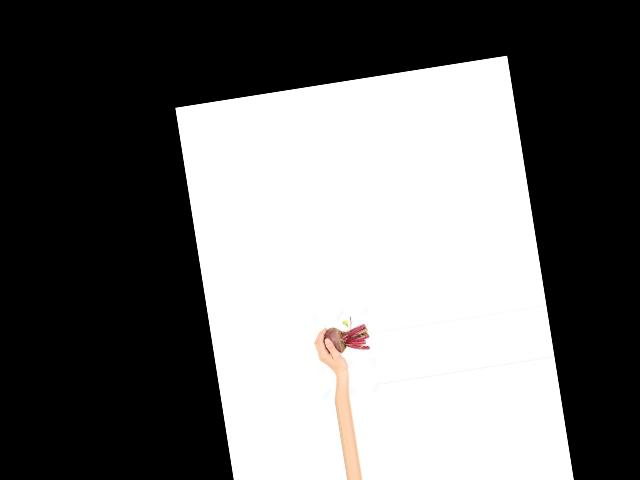beet: (320, 313, 370, 355)
